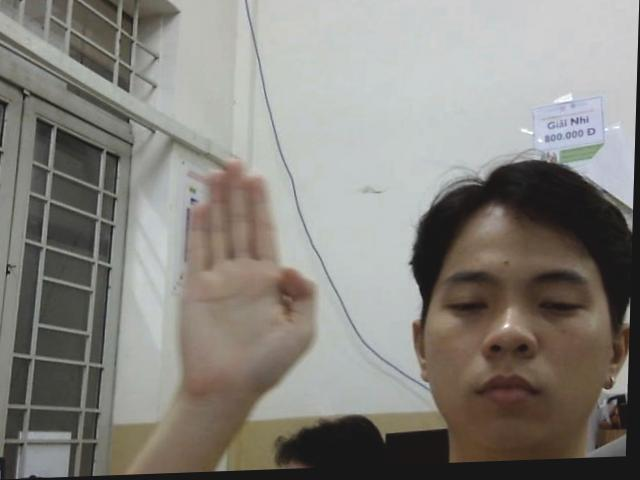B: (166, 152, 339, 389)
